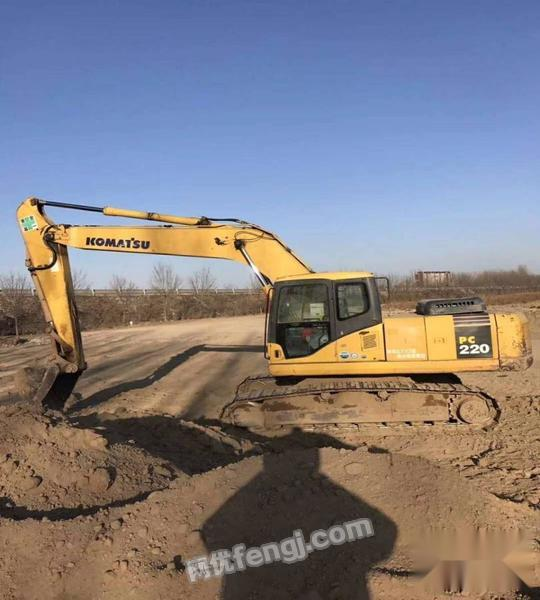excavator: (8, 187, 540, 445)
